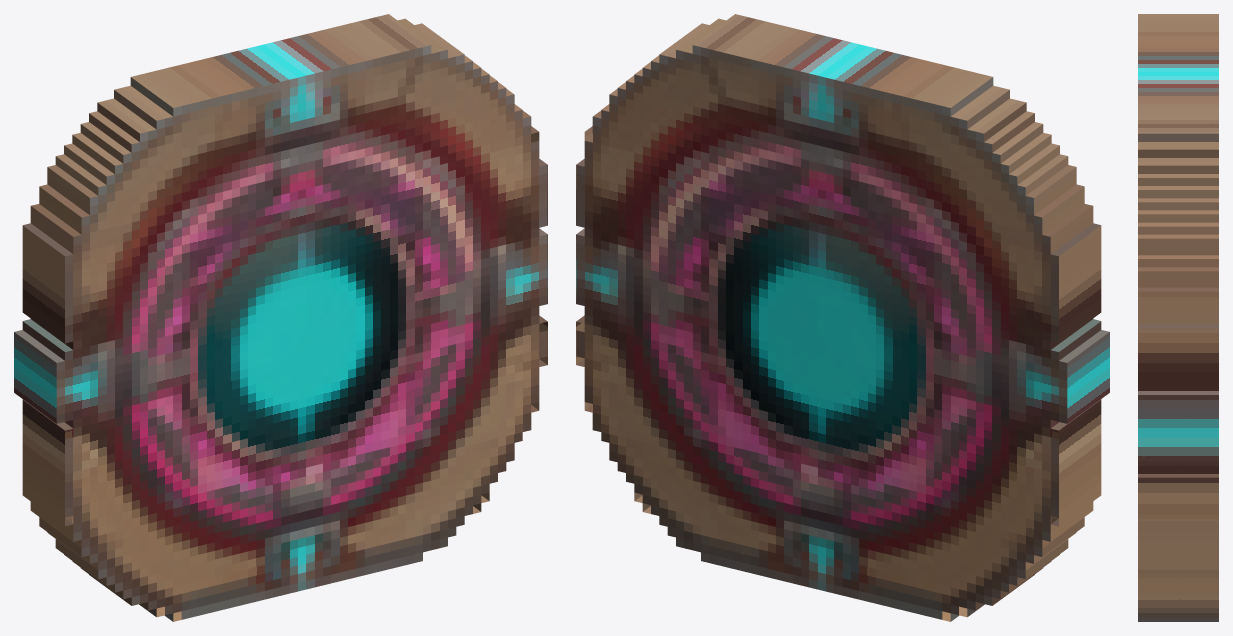
Rendered from spawner.obj.
The picture shows the model from 3 angles, left to right: view 1: azimuth 30°, elevation 25°; view 2: azimuth 150°, elevation 25°; view 3: azimuth 270°, elevation 25°; orthographic projection. The views are drawn at different scales.
Bounding box in the file's own units: 0.6454 × 0.6453 × 0.0968.
